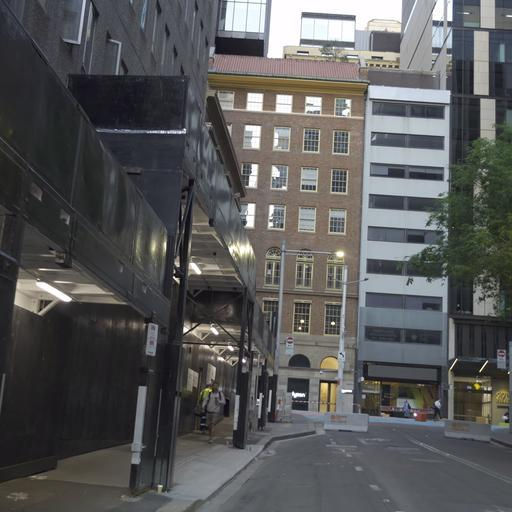Street light: (267, 241, 345, 422), (334, 275, 368, 387)
